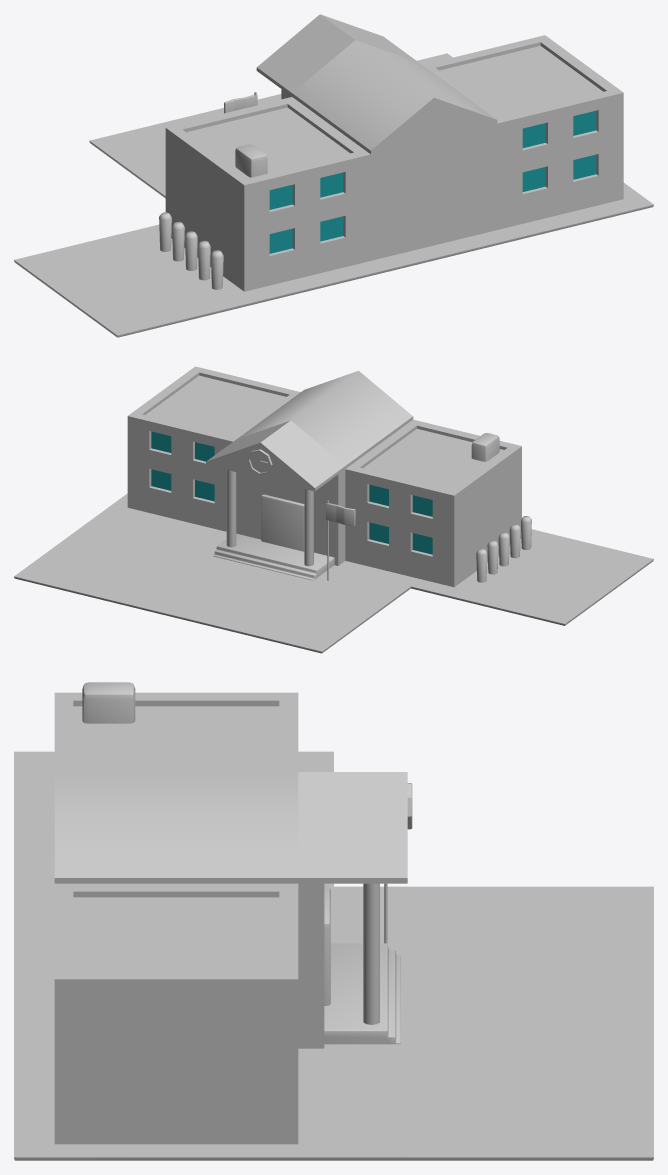
The model's file is ayuntamiento2.fbx.
3 renders of one model, top to bottom at view 1: azimuth 30°, elevation 25°; view 2: azimuth 150°, elevation 25°; view 3: azimuth 270°, elevation 25°, orthographic. The views are drawn at different scales.
Visible parts, largest first — view 1: azul, Object008; view 2: azul, Object008; view 3: azul, Object008.
Boxes of the visible parts, left/top/right/bottom form: azul: left=165, top=14, right=623, bottom=291; Object008: left=14, top=53, right=653, bottom=337; azul: left=127, top=366, right=521, bottom=587; Object008: left=14, top=431, right=653, bottom=653; azul: left=54, top=692, right=407, bottom=1144; Object008: left=14, top=682, right=653, bottom=1160.
Size of the model in its own units: 300 by 81.41 by 200.
